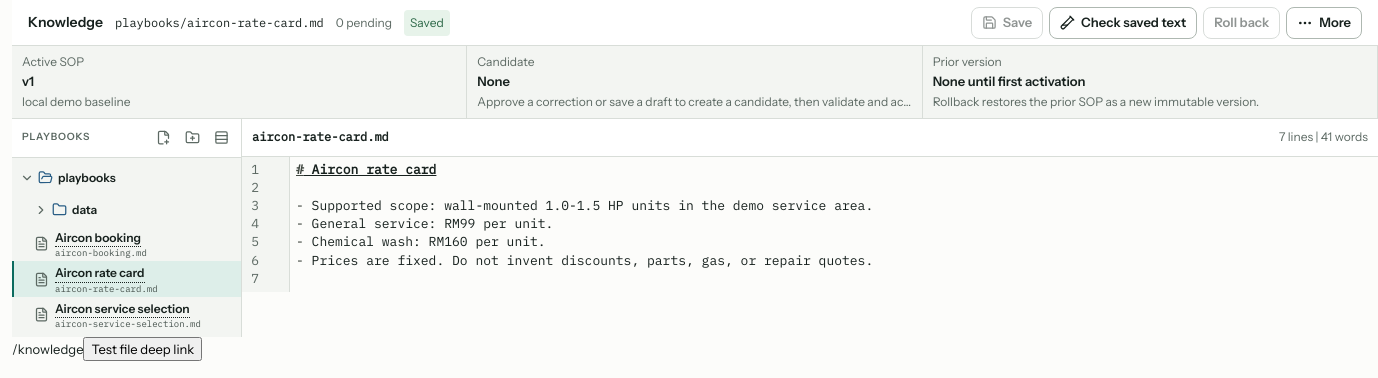
Test: Knowledge route › reveals playbook definitions on hover without adding visible helper copy
Hover over the text "Aircon rate card".
mouse_move(100, 274)  # box x1=55 y1=264 x2=144 y2=283
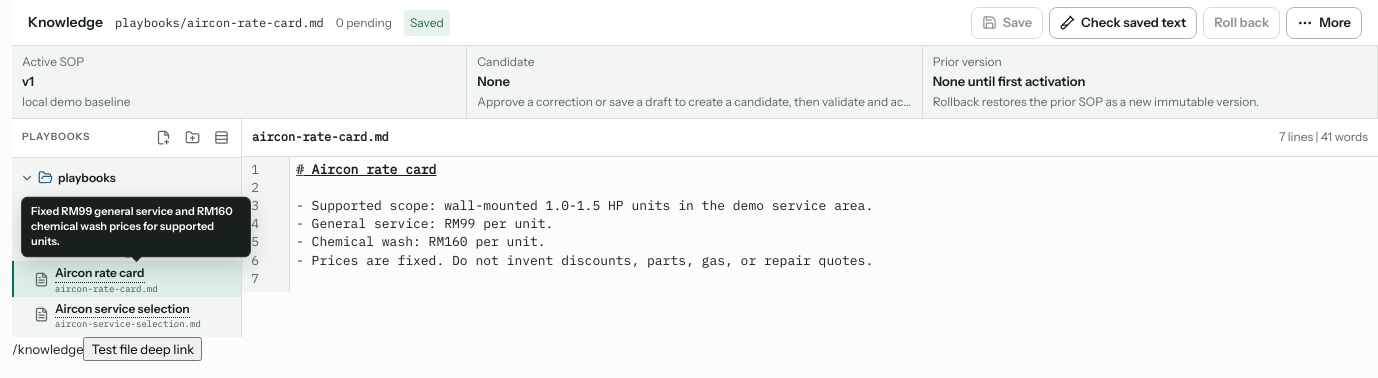
Check: the tooltip "Fixed RM99 general service" is shown, box x1=21 y1=197 x2=251 y2=257
Move the pointer off the text "Aircon rate card", box x1=55 y1=264 x2=144 y2=283
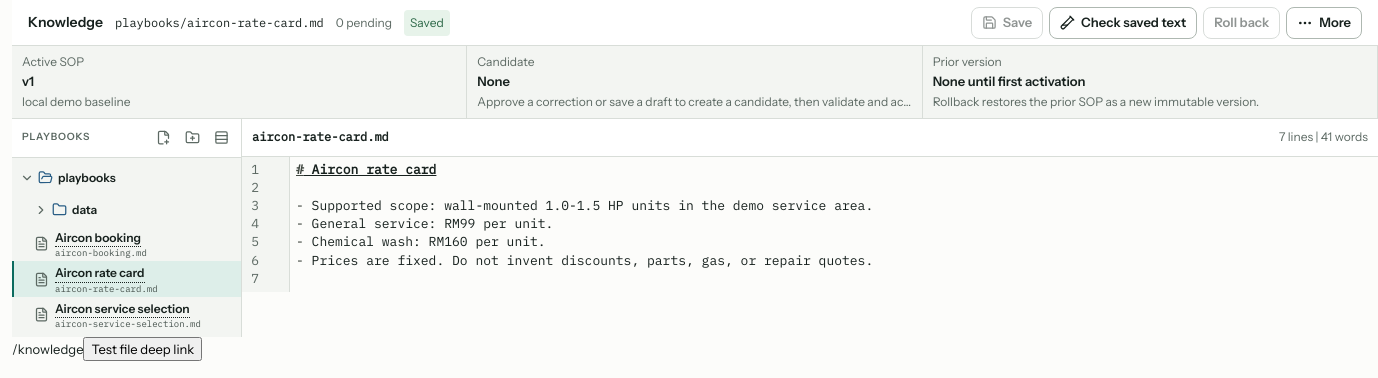
Hover over the text "Aircon booking".
mouse_move(98, 238)  # box x1=55 y1=229 x2=141 y2=247
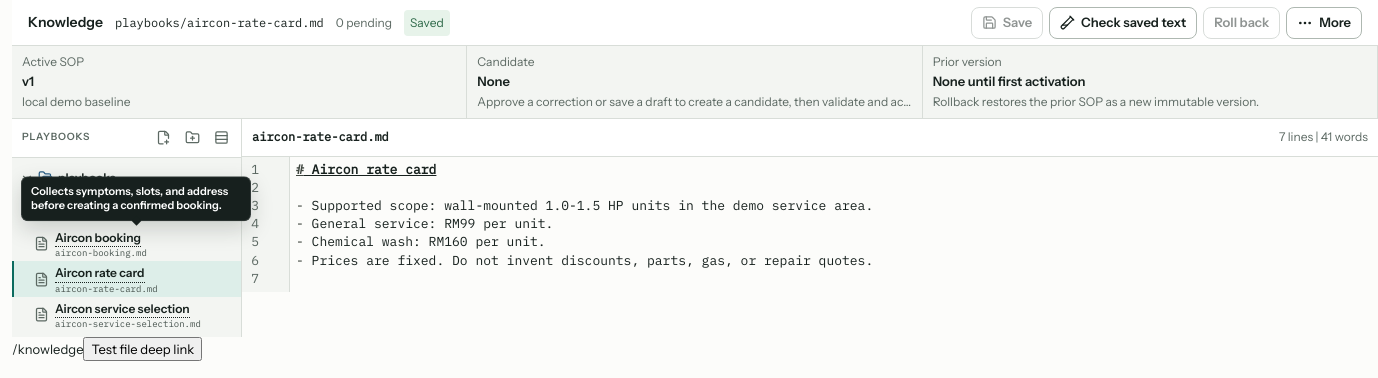
Check: the tooltip "Collects symptoms, slots, and address" is shown, box x1=21 y1=176 x2=251 y2=222
